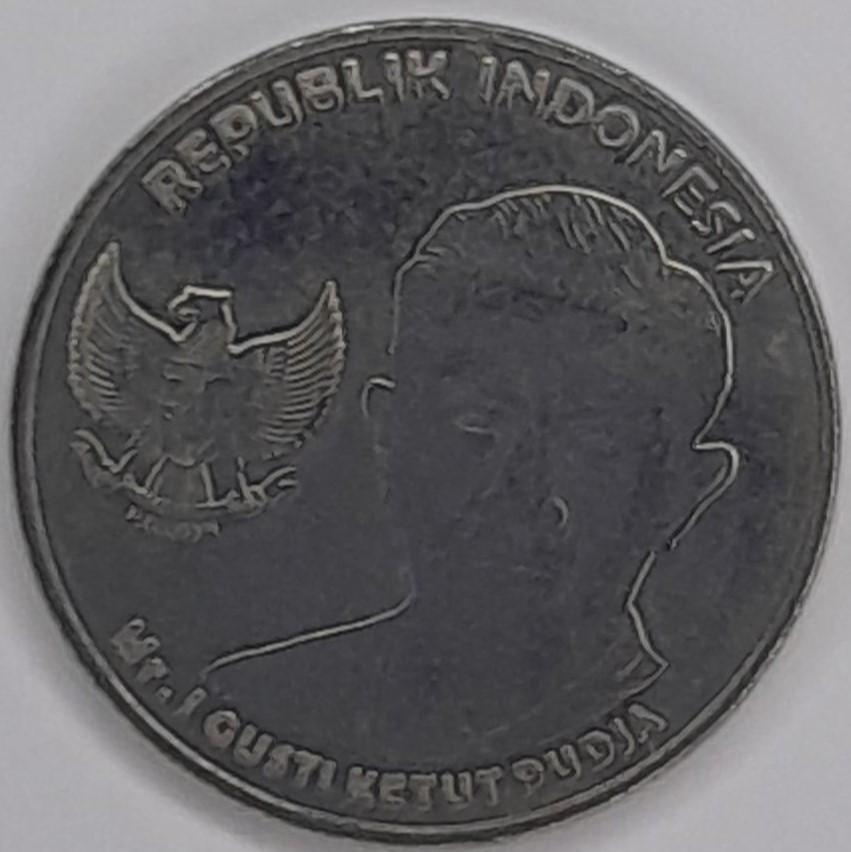coin_1000_e2016: (14, 17, 840, 852)
